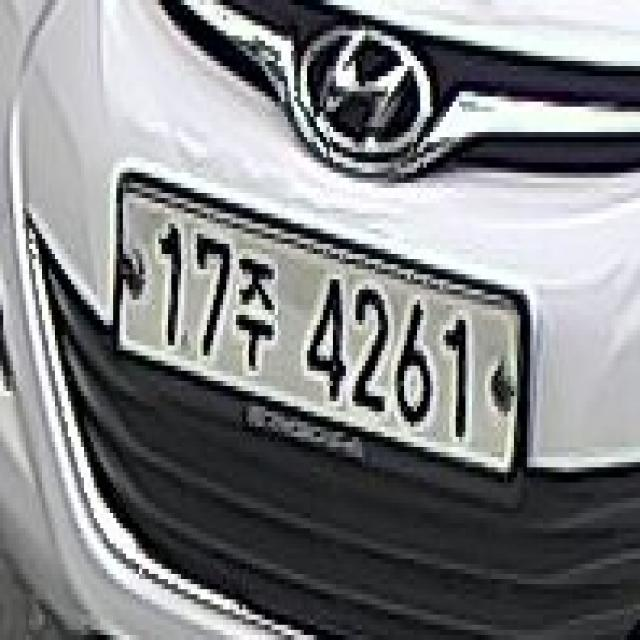1: (433, 295, 472, 447), (155, 208, 191, 356)
2: (349, 274, 391, 427)
4: (301, 264, 349, 417)
6: (391, 289, 436, 437)
7: (190, 223, 232, 371)
ju: (236, 244, 278, 396)
license_plate: (107, 157, 533, 498)
